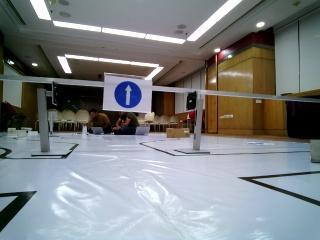straight: (105, 70, 152, 109)
